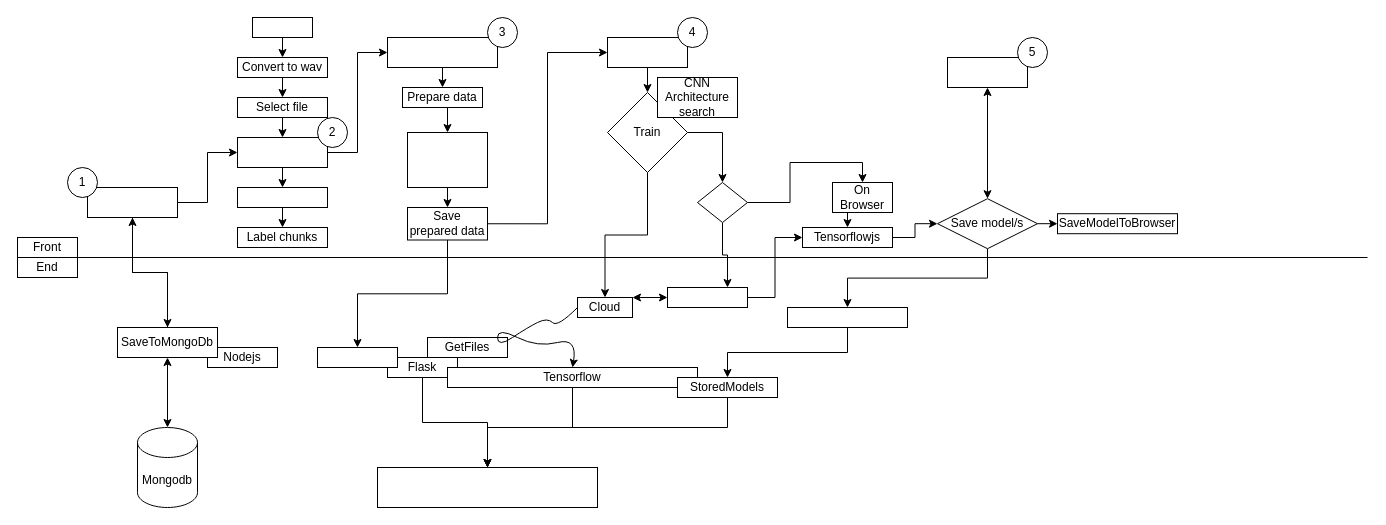
The diagram is 1386 pixels wide and 525 high, and some of its shapes have lost their labels. The shapes that lost their labels are listed below. From the top down, each one's box as (x1, y1, x2, y2) in pixels, then its label:
(252, 16, 312, 38): Lst of files
(386, 36, 498, 68): Chunk converter
(606, 36, 688, 68): AI Trainer
(946, 56, 1028, 88): AI Manager
(236, 136, 328, 168): Audio Labeling
(406, 132, 488, 188): Convert data to md5 to check for dups
(86, 186, 178, 218): Label manager
(236, 186, 328, 208): Split into chunks
(696, 182, 748, 222): Cached
(666, 286, 748, 308): DataOnServer
(786, 306, 908, 328): ConvertToTensorflow
(316, 346, 398, 368): SaveToFile
(376, 466, 598, 508): BackEndInputToModelToJsonApiQue
